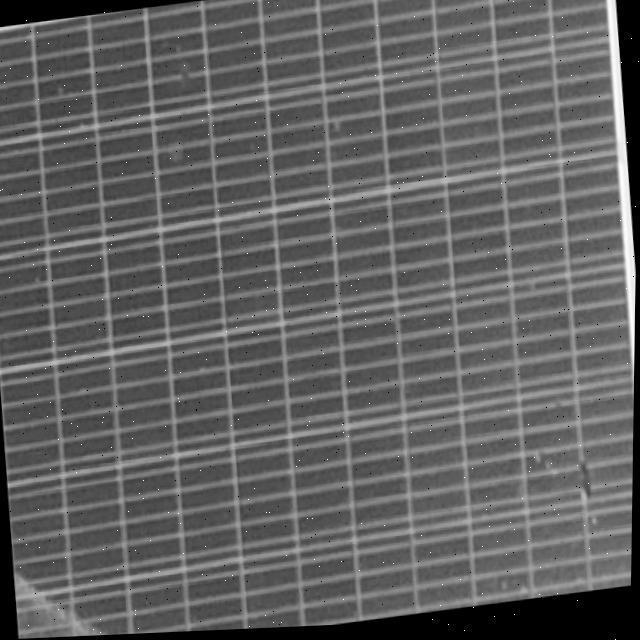Surface Contaminant: (12, 538, 155, 639)
